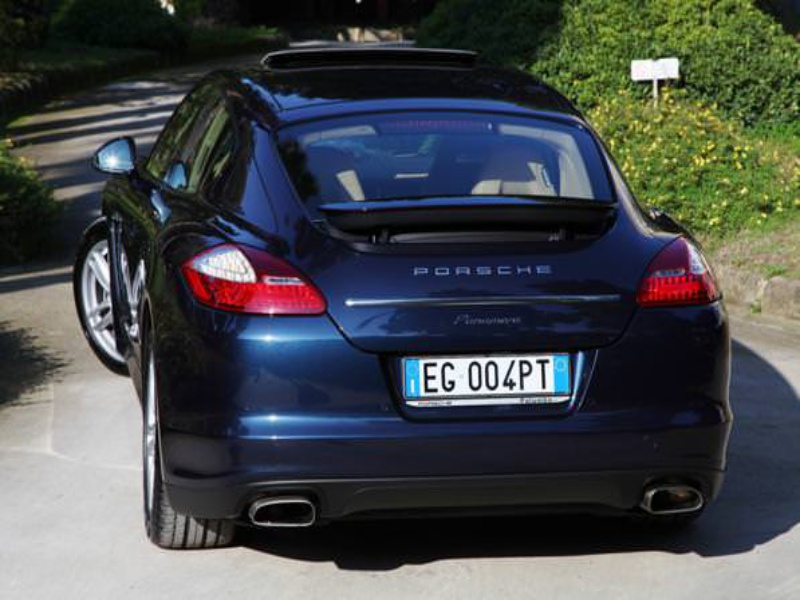licence_plate: (389, 343, 585, 412)
